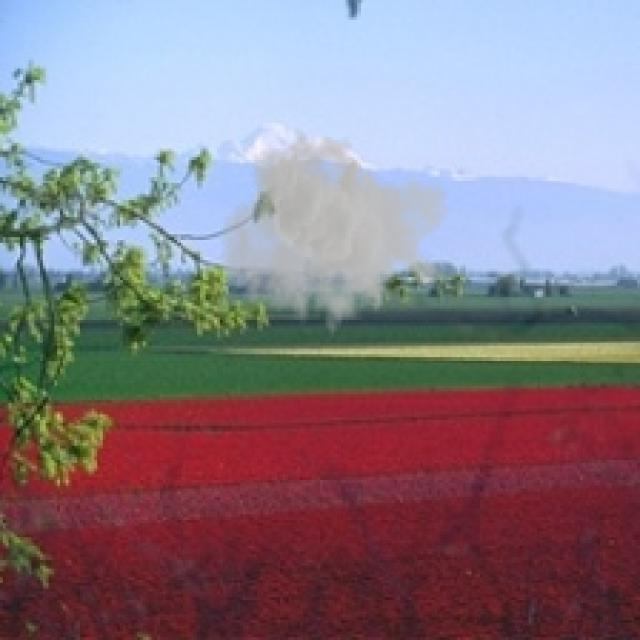Smoke: (219, 128, 452, 346)
